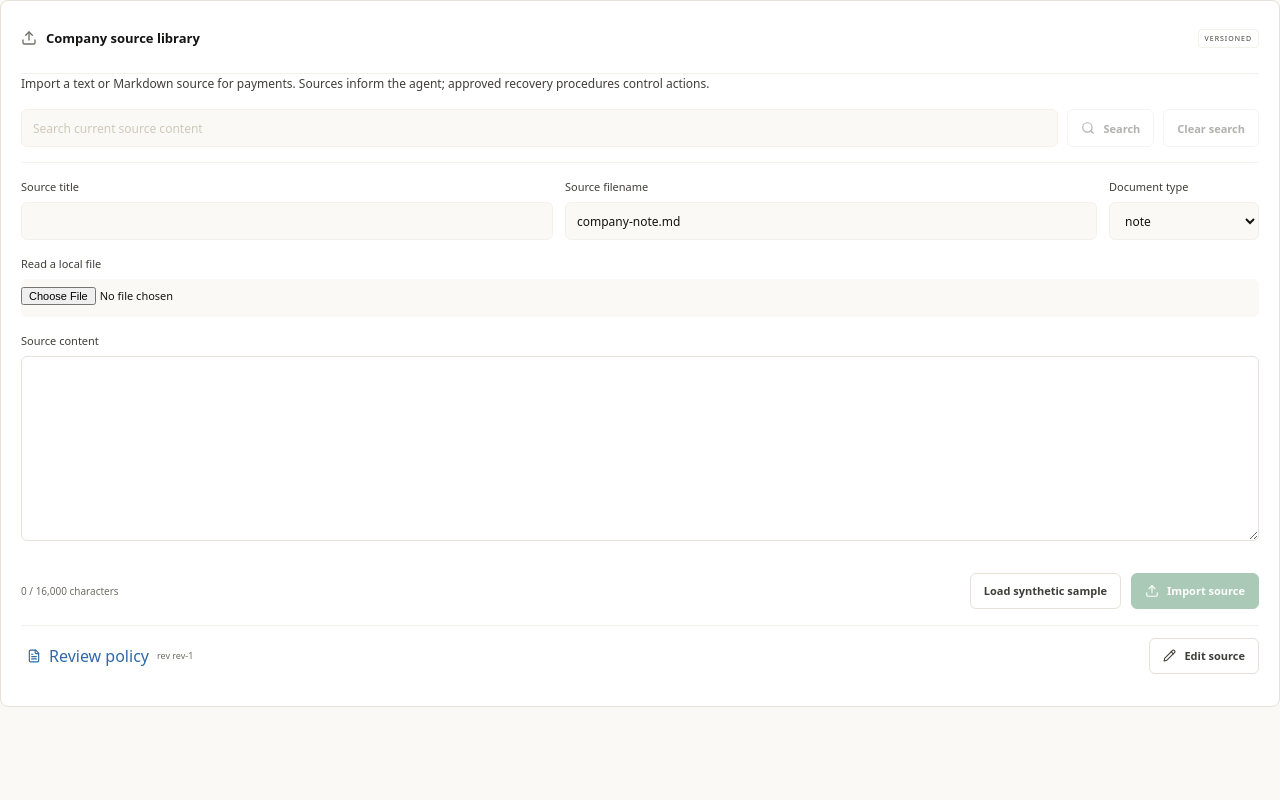
Test case: Source edit uses the current revision, supports cancel, and preserves a conflicting draft
Click the button "Edit source".
click(1204, 656)  # box [1150,638,1259,674]
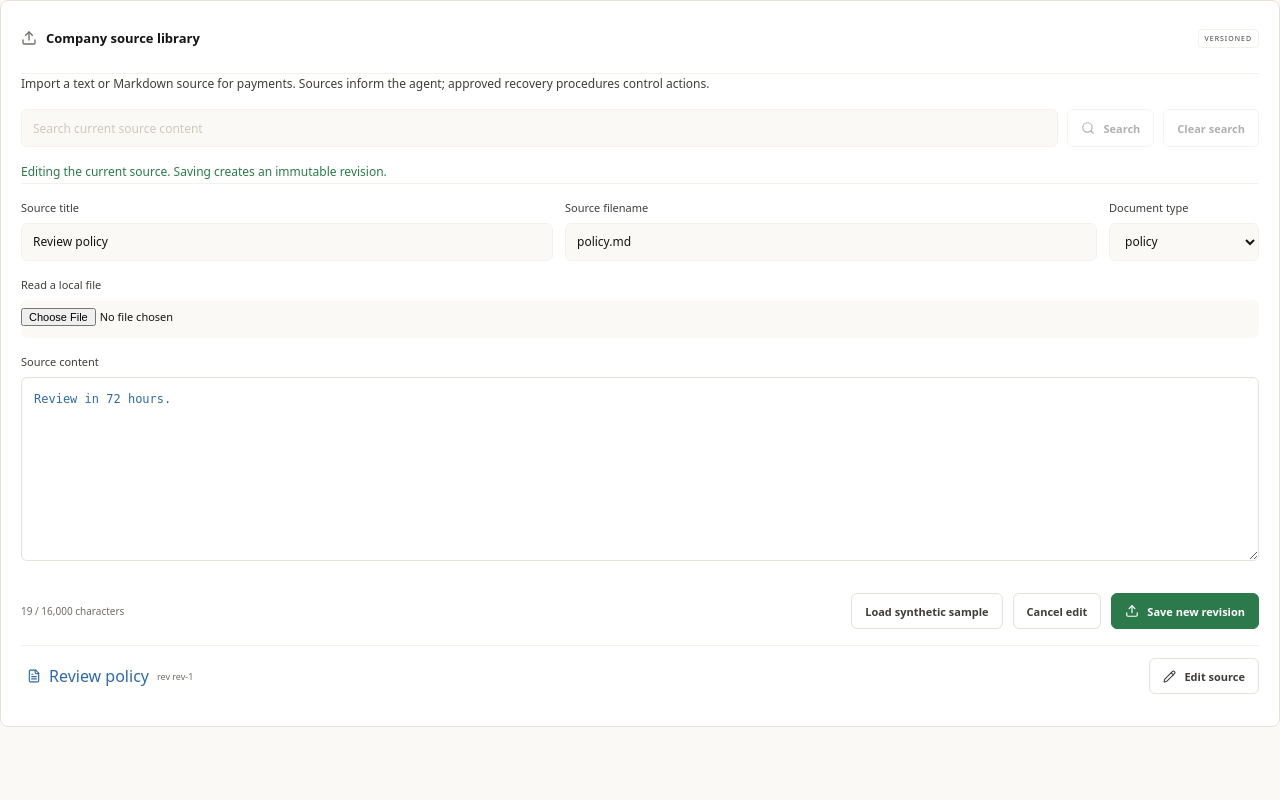
expect the button "Save new revision" is shown: met, box [1111,593,1259,629]
expect the field labelled "Source filename" is disabled: met, box [565,223,1097,261]
Replace the text in the text box labelled "Source content" with "My pending change" at (640, 469), box [21,377,1259,561]
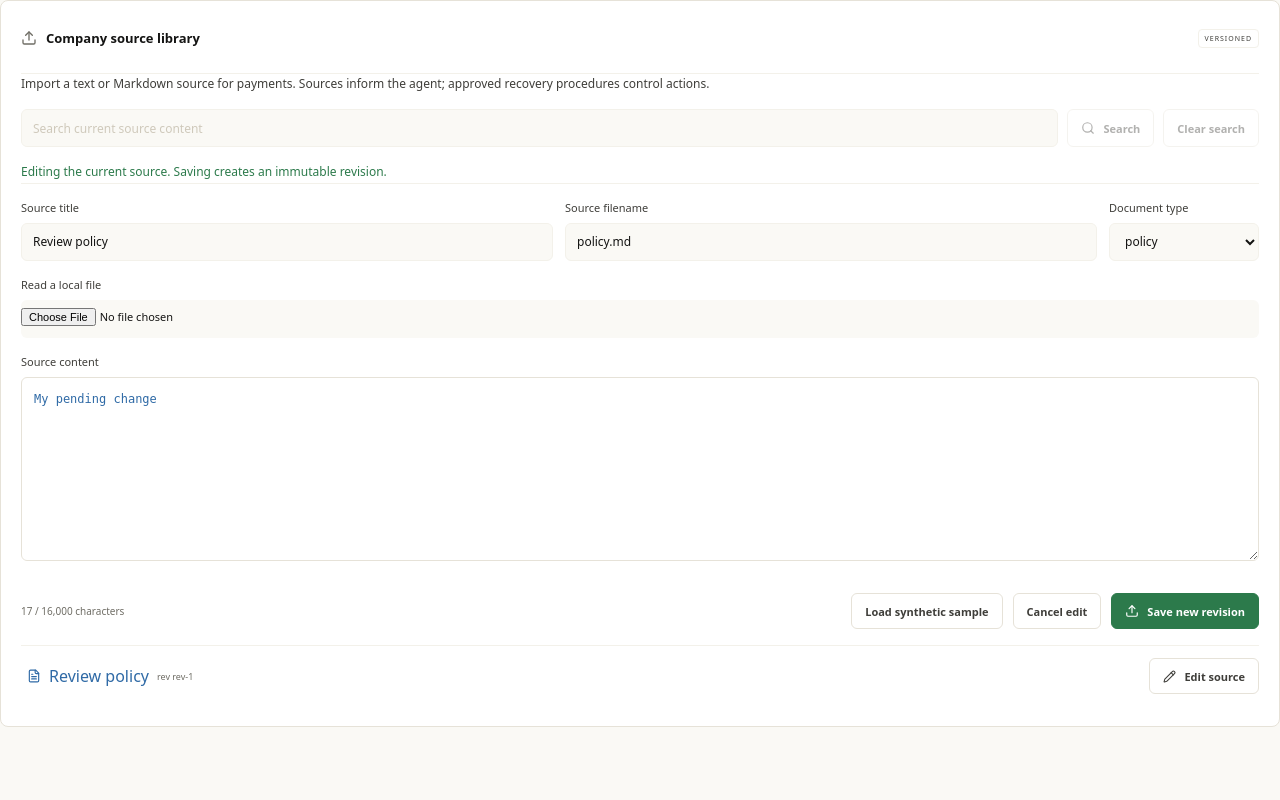
Click the button "Save new revision".
click(1185, 611)  # box [1111,593,1259,629]
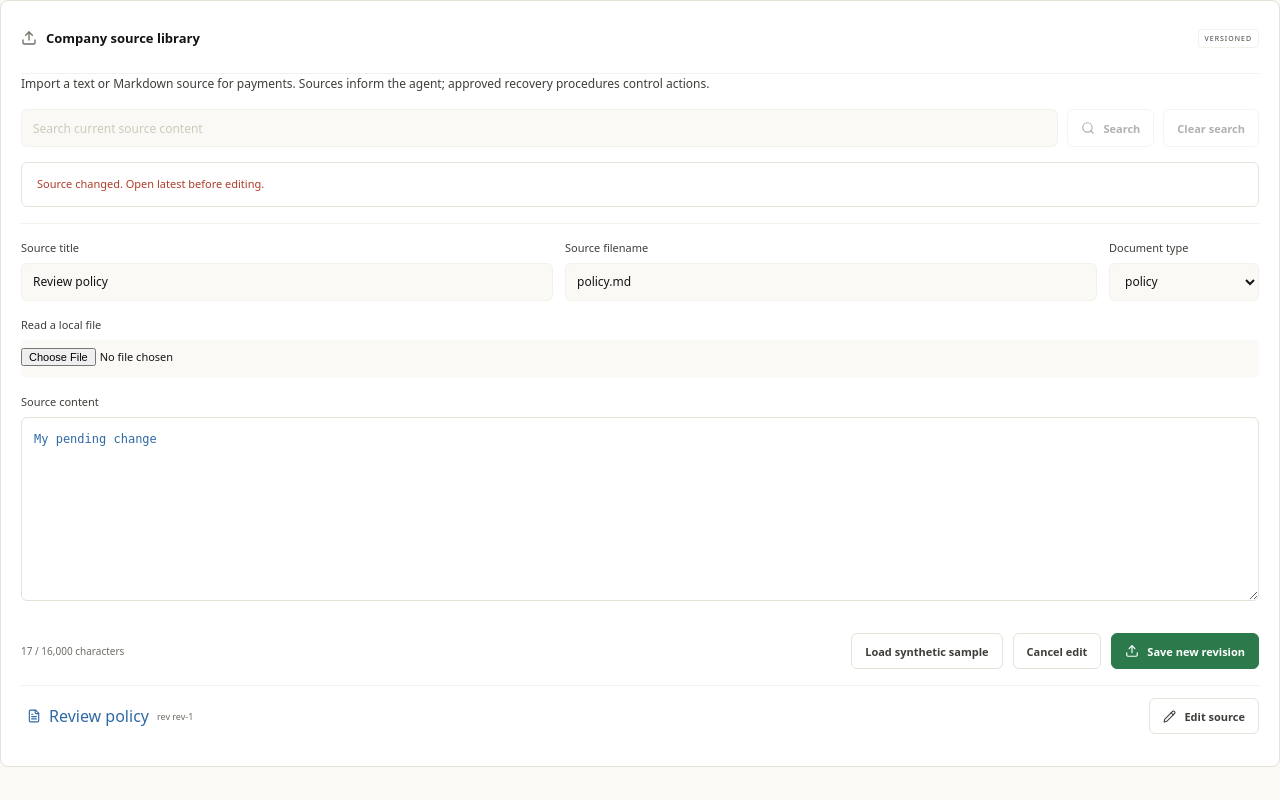
expect the message "Source changed. Open latest before editing." is shown: met, box [21,162,1259,207]
Click the button "Cancel edit".
click(1057, 651)  # box [1012,633,1101,669]
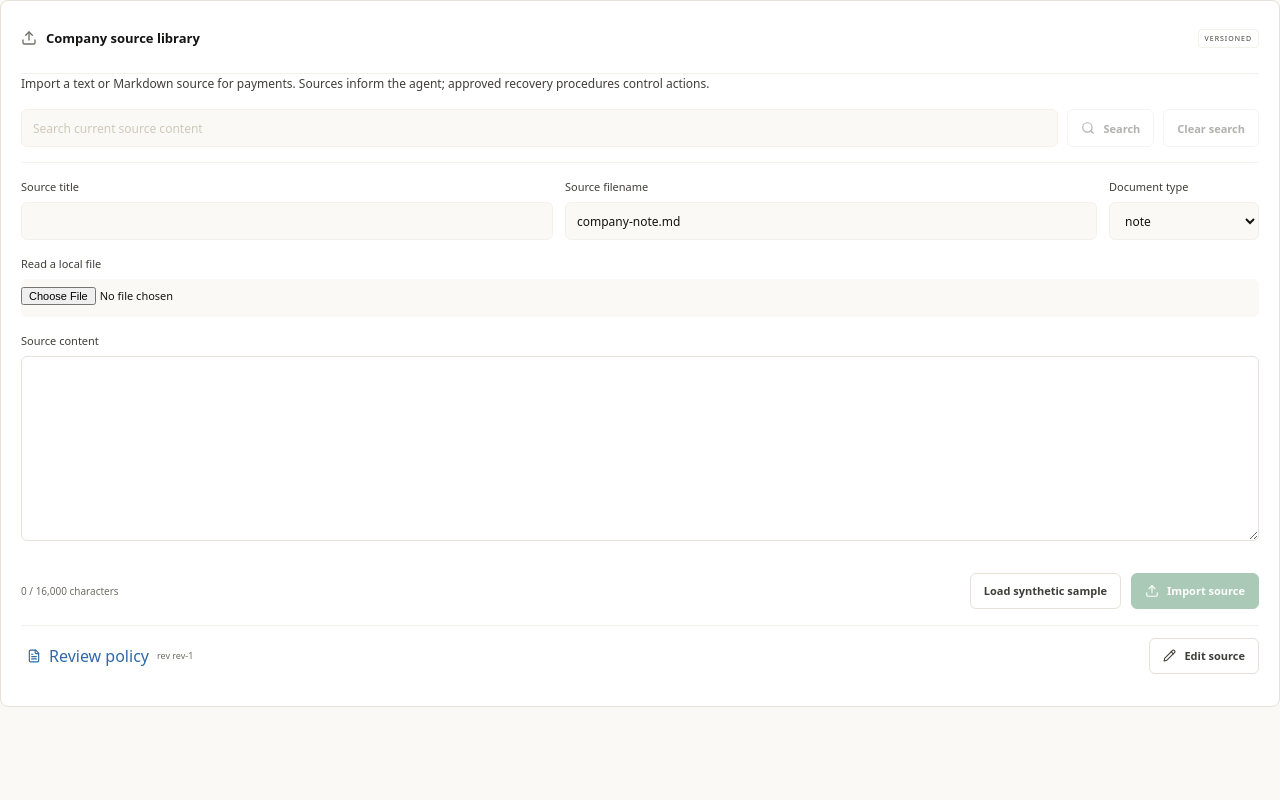
expect the text box labelled "Source content" is empty: met, box [21,356,1259,541]
